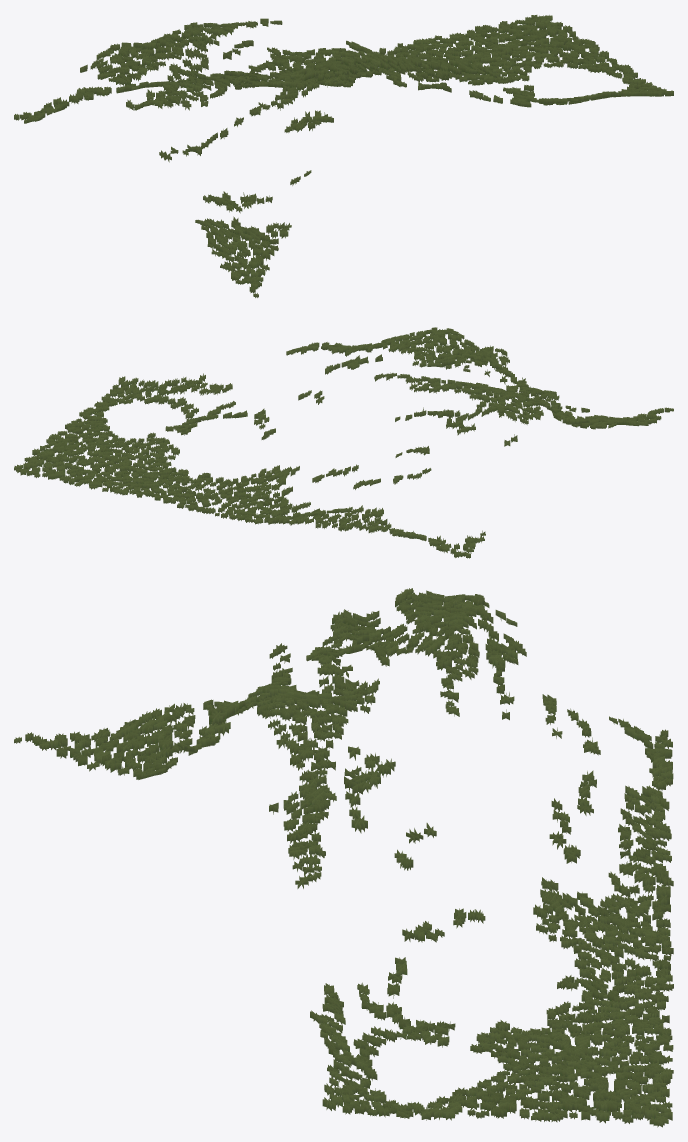
Rendered from TRB8-GRASS-CHUNK-2-4.glb.
3 renders of one model, top to bottom at view 1: azimuth 30°, elevation 25°; view 2: azimuth 150°, elevation 25°; view 3: azimuth 270°, elevation 25°, orthographic. The views are drawn at different scales.
Visible parts, largest first — view 1: TRB8-GRASS-CHUNK-2-4; view 2: TRB8-GRASS-CHUNK-2-4; view 3: TRB8-GRASS-CHUNK-2-4.
Boxes of the visible parts, x1,y1,x2,y2 form: TRB8-GRASS-CHUNK-2-4: (14, 15, 673, 297); TRB8-GRASS-CHUNK-2-4: (14, 327, 673, 558); TRB8-GRASS-CHUNK-2-4: (14, 588, 673, 1127).
Size of the model in its own units: 40.54 by 11.13 by 31.77.
1 material, 1 textured.
